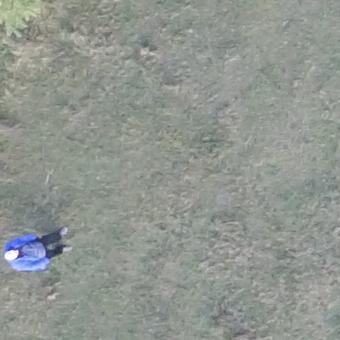human: (2, 225, 74, 276)
